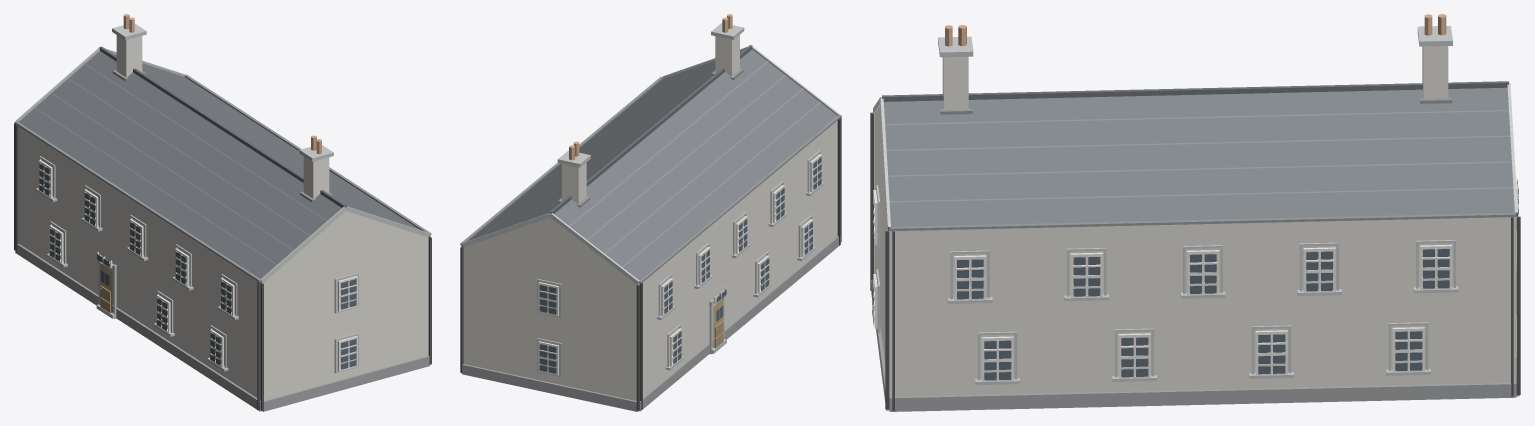
3 views of the same model, side by side, from view 1: azimuth 30°, elevation 25°; view 2: azimuth 150°, elevation 25°; view 3: azimuth 270°, elevation 25° (orthographic). The views are drawn at different scales.
Parts seen in each view (by area): view 1: harl_grey, slate, stone_band, plinth, frame, slate_lt, lead, pipe, chim_render, slate_dk; view 2: harl_grey, slate, stone_band, plinth, frame, slate_lt, lead, pipe, chim_render, slate_dk; view 3: harl_grey, slate, plinth, stone_band, frame, slate_lt, slate_dk, pipe, lead, chim_render, pot.
Boxes of the visible parts, box(x1,y1,x2,y2) form: harl_grey: box(18, 126, 428, 400); slate: box(19, 51, 419, 278); stone_band: box(16, 23, 429, 373); plinth: box(15, 243, 429, 411); frame: box(38, 160, 357, 371); slate_lt: box(34, 63, 404, 264); lead: box(14, 70, 431, 282); pipe: box(14, 123, 431, 410); chim_render: box(116, 35, 329, 198); slate_dk: box(99, 46, 346, 207); harl_grey: box(463, 120, 837, 400); slate: box(469, 49, 836, 280); stone_band: box(462, 23, 839, 377); plinth: box(461, 235, 840, 411); frame: box(538, 154, 821, 375); slate_lt: box(484, 60, 820, 267); lead: box(460, 69, 841, 283); pipe: box(460, 117, 841, 410); chim_render: box(562, 35, 739, 203); slate_dk: box(549, 45, 752, 214); harl_grey: box(874, 106, 1516, 396); slate: box(884, 87, 1514, 226); plinth: box(871, 279, 1519, 411); stone_band: box(873, 25, 1517, 385); frame: box(873, 175, 1517, 381); slate_lt: box(885, 109, 1513, 202); slate_dk: box(882, 81, 1508, 101); pipe: box(870, 112, 1520, 410); lead: box(889, 97, 1516, 231); chim_render: box(942, 46, 1448, 109); pot: box(945, 14, 1446, 46).
Size of the model in its own units: 9.35 by 10.42 by 18.96.
